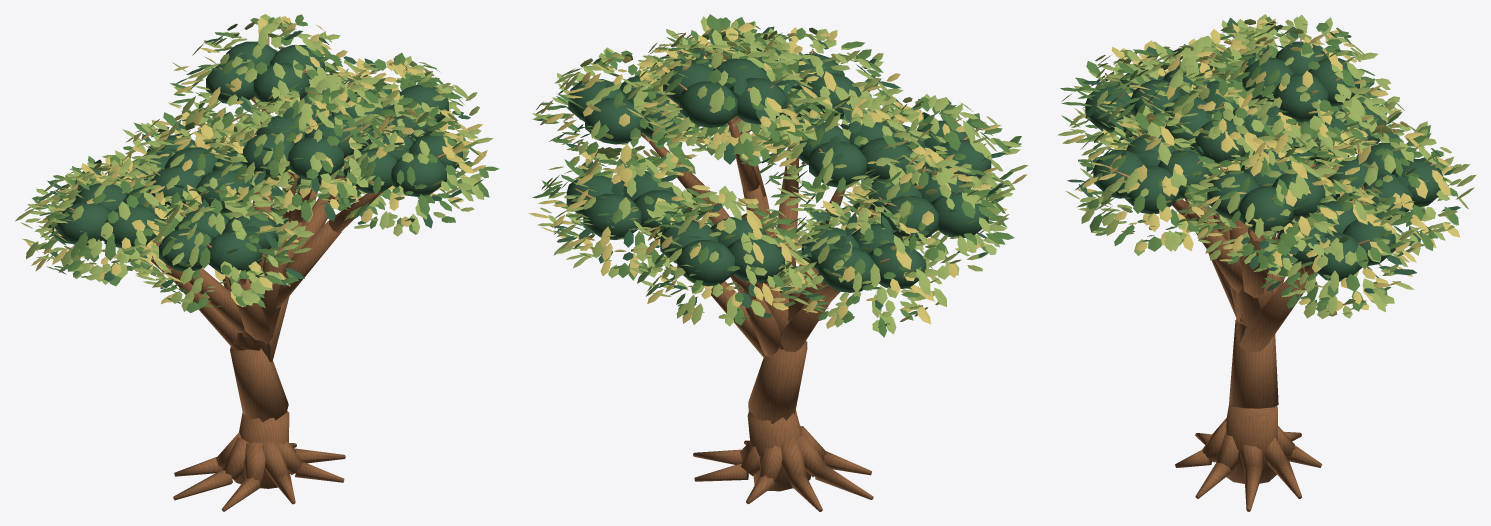
The model's file is tree_large_gold.glb.
3 views of the same model, side by side, from view 1: azimuth 30°, elevation 25°; view 2: azimuth 150°, elevation 25°; view 3: azimuth 270°, elevation 25° (orthographic). The views are drawn at different scales.
Parts seen in each view (by area): view 1: tree_large_gold; view 2: tree_large_gold; view 3: tree_large_gold.
Boxes of the visible parts, x1,y1,x2,y2 form: tree_large_gold: (15, 14, 499, 511); tree_large_gold: (528, 14, 1027, 511); tree_large_gold: (1057, 14, 1476, 511).
Size of the model in its own units: 8.49 by 8.04 by 6.63.
Materials: 6 (2 with a texture image).
